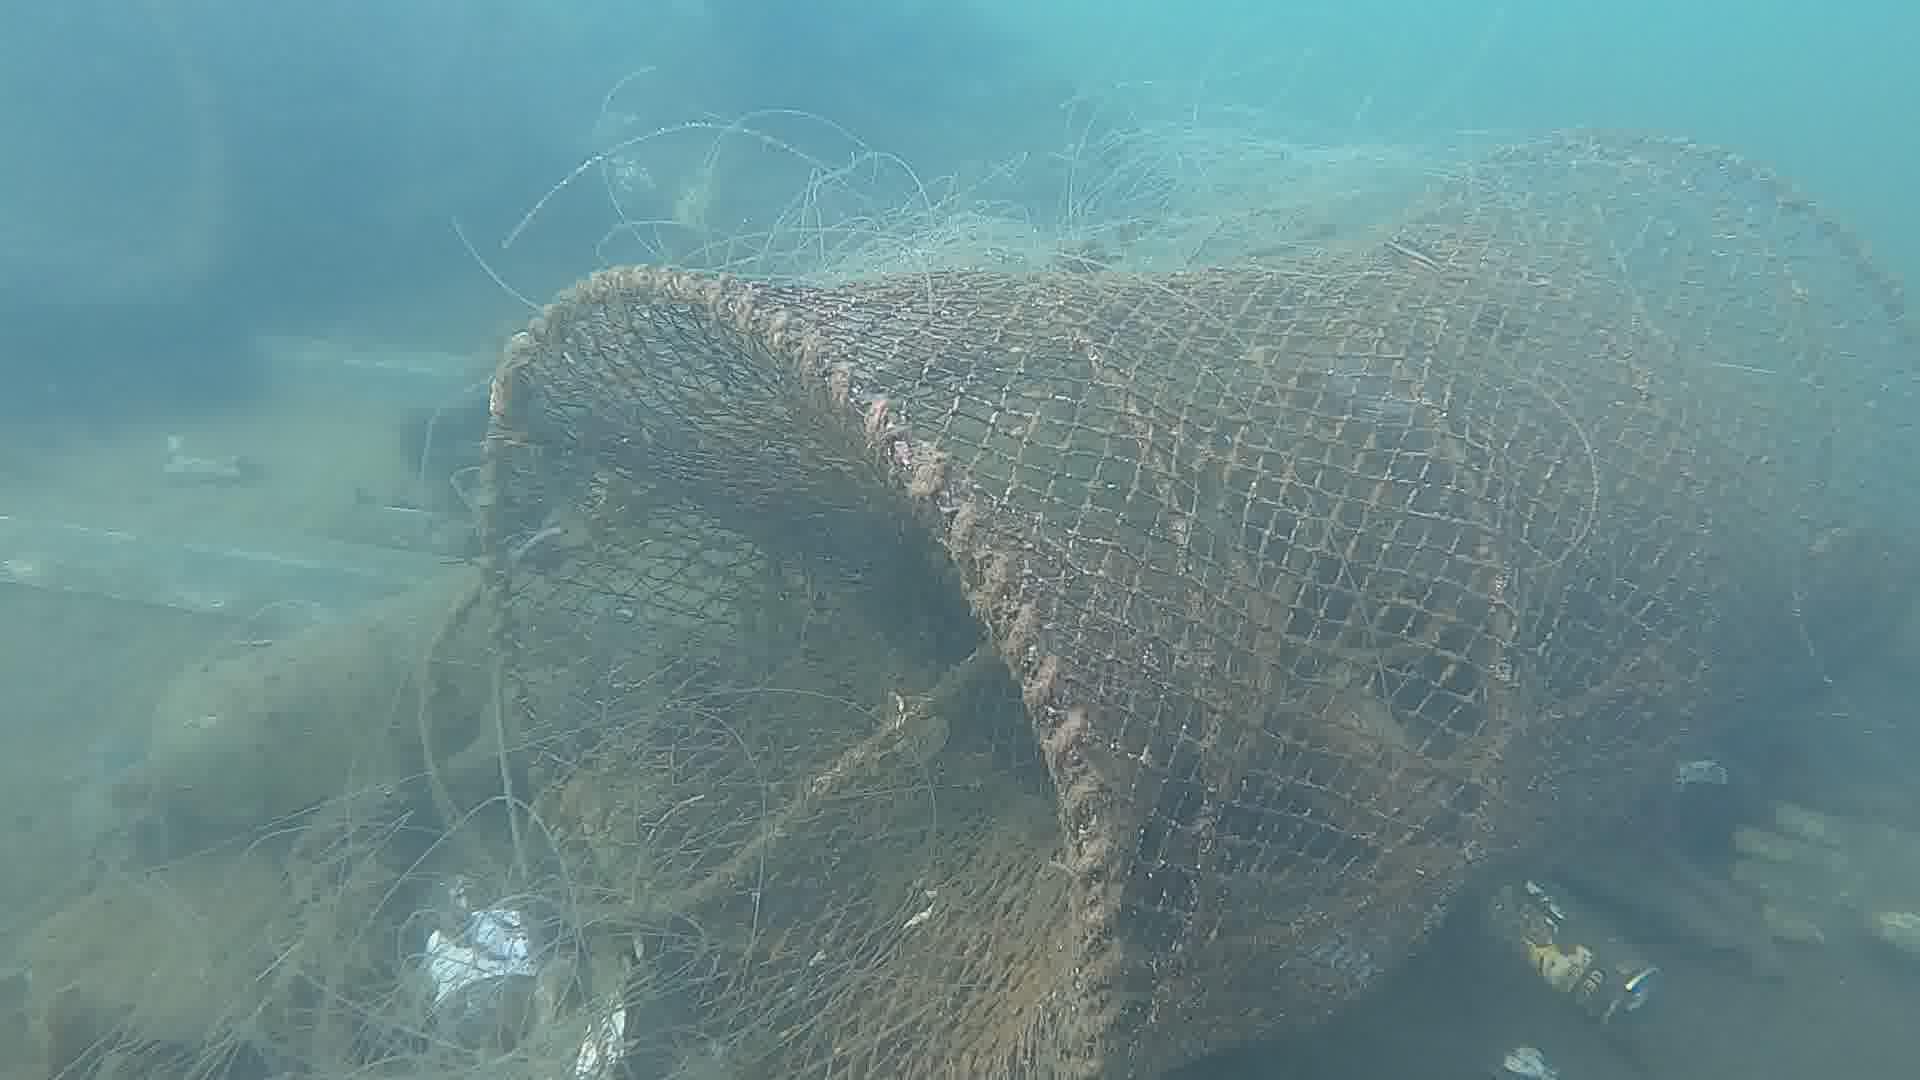spring fish trap: (463, 125, 1920, 1080)
